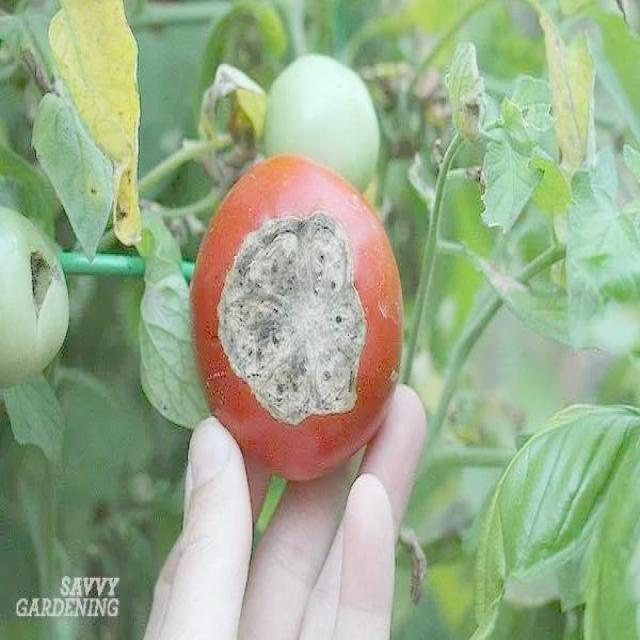Blossom End Rot Fruit: (25, 57, 192, 210)
